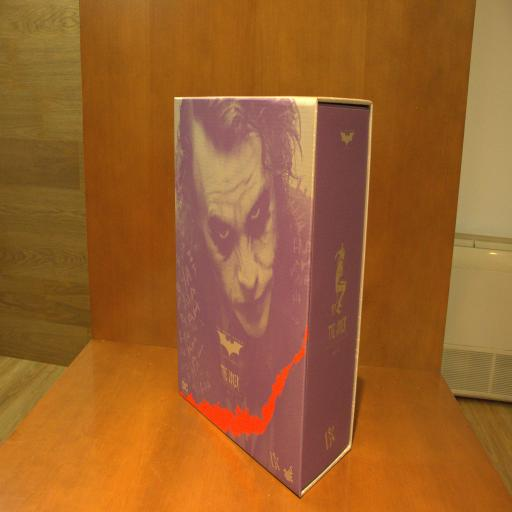Joker: (173, 91, 376, 494)
